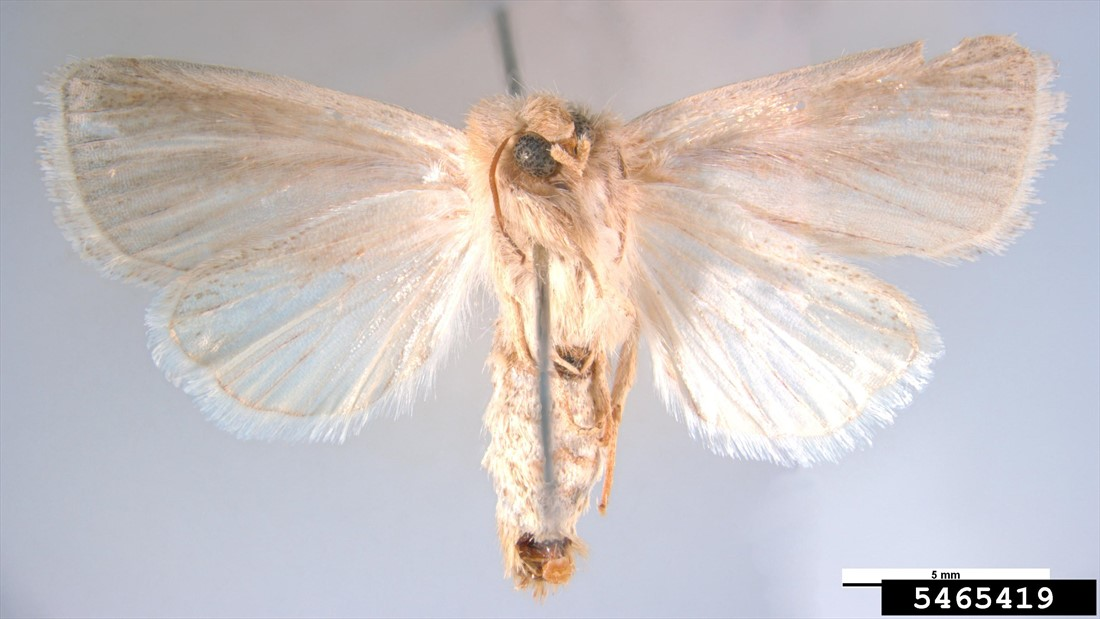Noctuidae: (34, 33, 1061, 593)
